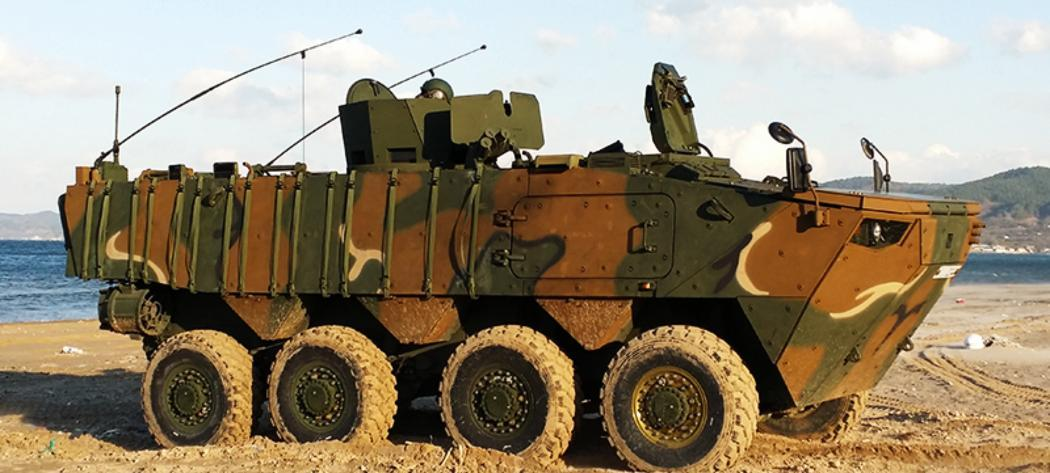MIL_IFV: (69, 64, 984, 472)
